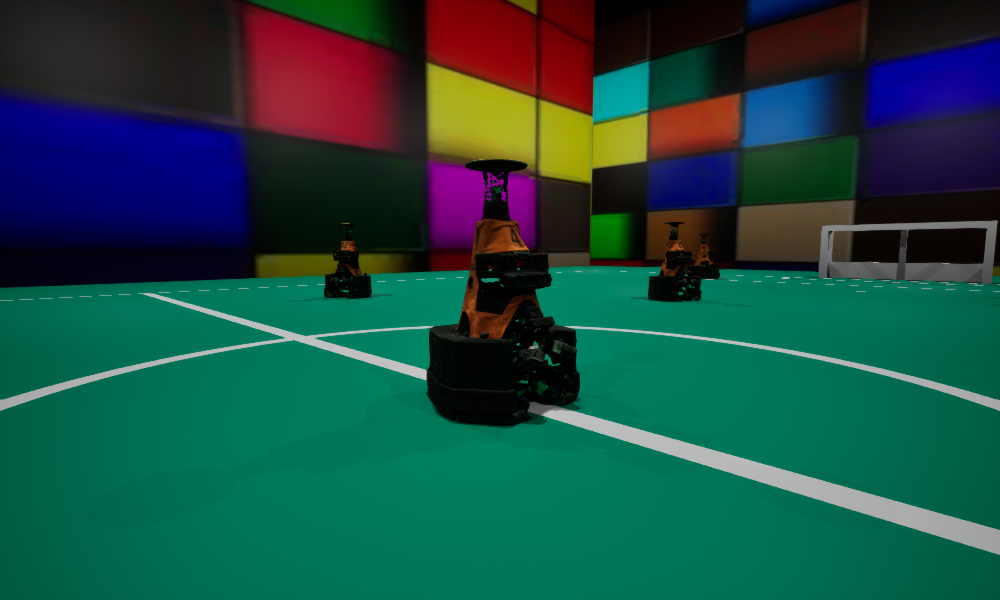o: (427, 159, 579, 425), (648, 222, 701, 301), (324, 223, 371, 297), (688, 234, 719, 278)
